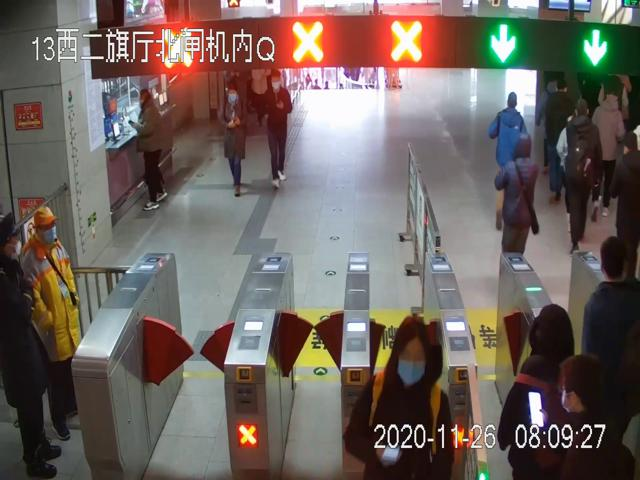person: (22, 208, 81, 440), (497, 133, 540, 256), (129, 89, 170, 213), (260, 70, 294, 191), (216, 81, 248, 198)
